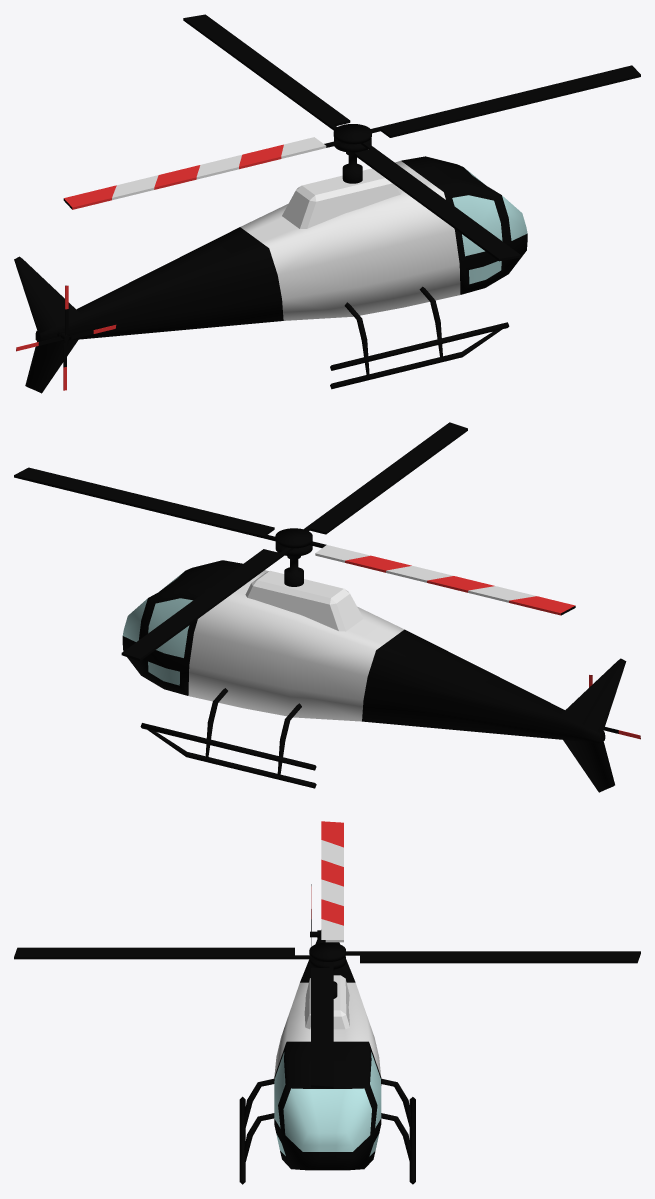
File: Helicopter.fbx
3 renders of one model, top to bottom at view 1: azimuth 30°, elevation 25°; view 2: azimuth 150°, elevation 25°; view 3: azimuth 270°, elevation 25°, orthographic. The views are drawn at different scales.
Parts seen in each view (by area): view 1: Helicopter_MainBody, Helicopter_Blade_Big, Helicopter_Railing, Helicopter_Blade_Small; view 2: Helicopter_MainBody, Helicopter_Blade_Big, Helicopter_Railing; view 3: Helicopter_MainBody, Helicopter_Blade_Big, Helicopter_Railing.
Part boxes in pixels (bbox=[...]): Helicopter_MainBody: bbox=[14, 124, 527, 393]; Helicopter_Blade_Big: bbox=[63, 14, 640, 261]; Helicopter_Railing: bbox=[330, 286, 509, 389]; Helicopter_Blade_Small: bbox=[16, 285, 116, 390]; Helicopter_MainBody: bbox=[122, 528, 626, 792]; Helicopter_Blade_Big: bbox=[14, 422, 575, 661]; Helicopter_Railing: bbox=[140, 688, 316, 788]; Helicopter_MainBody: bbox=[274, 930, 381, 1170]; Helicopter_Blade_Big: bbox=[14, 821, 640, 1088]; Helicopter_Railing: bbox=[239, 1078, 415, 1184].
Size of the model in its own units: 13 by 4.13 by 11.73.
